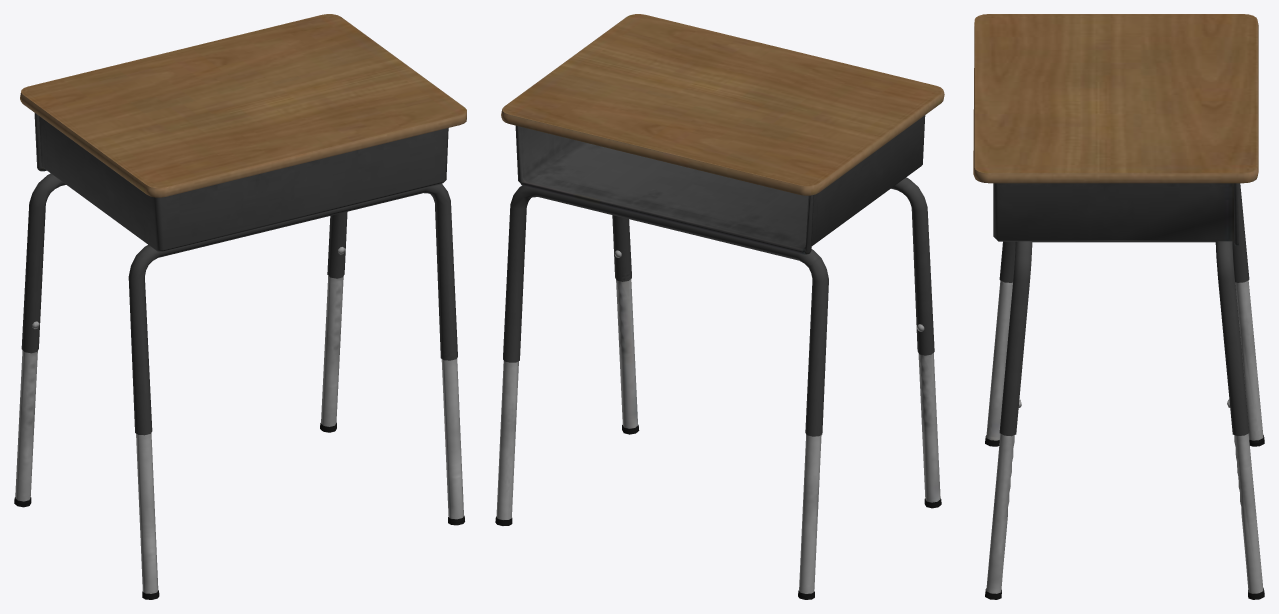
Rendered from SchoolDesk_01.gltf.
The picture shows the model from 3 angles, left to right: view 1: azimuth 30°, elevation 25°; view 2: azimuth 150°, elevation 25°; view 3: azimuth 270°, elevation 25°; orthographic projection. The views are drawn at different scales.
Parts seen in each view (by area): view 1: SchoolDesk_01; view 2: SchoolDesk_01; view 3: SchoolDesk_01.
Part boxes in pixels (x1=…): SchoolDesk_01: x1=14, y1=14, x2=466, y2=599; SchoolDesk_01: x1=495, y1=14, x2=944, y2=599; SchoolDesk_01: x1=973, y1=14, x2=1264, y2=599.
Bounding box in the file's own units: 0.7118 × 0.8826 × 0.546.
1 material, 1 textured.
